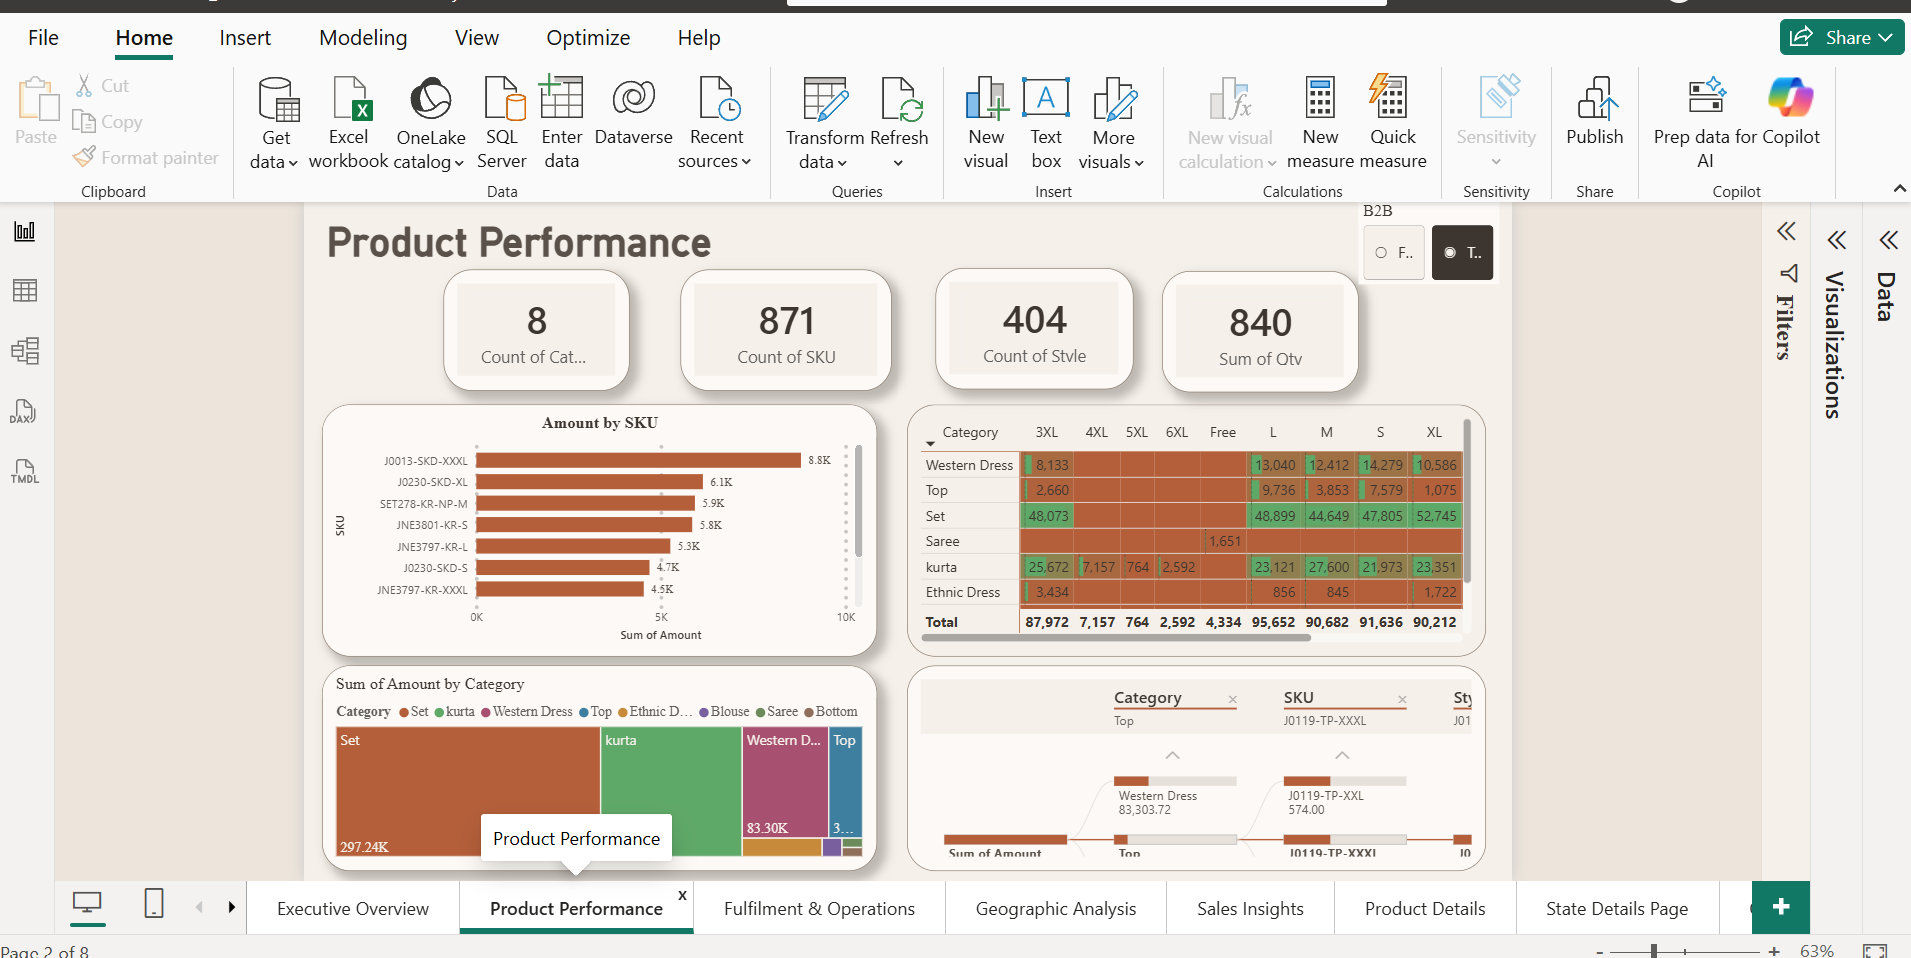

What the dashboard file says about the page in this screenshot:
{"tool":"powerbi","page":{"name":"Product Performance","canvas":[1280,720],"ordinal":1},"visuals":[{"type":"textbox","box":[19.4,11.3,453.4,76.1],"z":0},{"type":"cardVisual","fields":{"Data":["Count(amazon_sales_cleaned.Category)"]},"box":[147.9,71.6,197.2,128.8],"z":1000},{"type":"cardVisual","fields":{"Data":["CountNonNull(amazon_sales_cleaned.SKU)"]},"box":[399.2,71.6,224.3,128.8],"z":2000},{"type":"cardVisual","fields":{"Data":["Count(amazon_sales_cleaned.Style)"]},"box":[669.6,70,210,128.8],"z":3000},{"type":"cardVisual","fields":{"Data":["Sum(amazon_sales_cleaned.Qty)"]},"box":[909.8,73.2,208.4,128.8],"z":4000},{"type":"barChart","title":"Amount by SKU","fields":{"Category":["amazon_sales_cleaned.SKU"],"Y":["Sum(amazon_sales_cleaned.Amount)"]},"box":[19.1,214.7,588.5,267.2],"z":5000},{"type":"treemap","fields":{"Values":["Sum(amazon_sales_cleaned.Amount)"],"Group":["amazon_sales_cleaned.Category"]},"box":[19.1,491.5,588.5,217.9],"z":6000},{"type":"pivotTable","fields":{"Rows":["amazon_sales_cleaned.Category"],"Columns":["amazon_sales_cleaned.Size"],"Values":["Sum(amazon_sales_cleaned.Amount)"]},"box":[639.4,214.7,614,267.2],"z":7000},{"type":"decompositionTreeVisual","fields":{"Analyze":["Sum(amazon_sales_cleaned.Amount)"],"ExplainBy":["amazon_sales_cleaned.Category","amazon_sales_cleaned.SKU","amazon_sales_cleaned.Style","amazon_sales_cleaned.Size"]},"box":[639.4,491.5,614,217.9],"z":8000},{"type":"advancedSlicerVisual","fields":{"Values":["amazon_sales_cleaned.B2B"]},"box":[1130.9,70,149.5,132],"z":9000}]}

Visuals, with their boxes on the page's 1280x720 design canvas (x1, y1, x2, y2). These are canvas units, not pixel positions in the 1911x958 screenshot, which may show the page scaled, cropped or inside an application window:
textbox: left=19, top=11, right=473, bottom=87
cardVisual - Count(amazon_sales_cleaned.Category): left=148, top=72, right=345, bottom=200
cardVisual - CountNonNull(amazon_sales_cleaned.SKU): left=399, top=72, right=624, bottom=200
cardVisual - Count(amazon_sales_cleaned.Style): left=670, top=70, right=880, bottom=199
cardVisual - Sum(amazon_sales_cleaned.Qty): left=910, top=73, right=1118, bottom=202
"Amount by SKU" barChart: left=19, top=215, right=608, bottom=482
treemap - Sum(amazon_sales_cleaned.Amount) x amazon_sales_cleaned.Category: left=19, top=492, right=608, bottom=709
pivotTable - amazon_sales_cleaned.Category x amazon_sales_cleaned.Size: left=639, top=215, right=1253, bottom=482
decompositionTreeVisual - Sum(amazon_sales_cleaned.Amount) x amazon_sales_cleaned.Category: left=639, top=492, right=1253, bottom=709
advancedSlicerVisual - amazon_sales_cleaned.B2B: left=1131, top=70, right=1280, bottom=202
